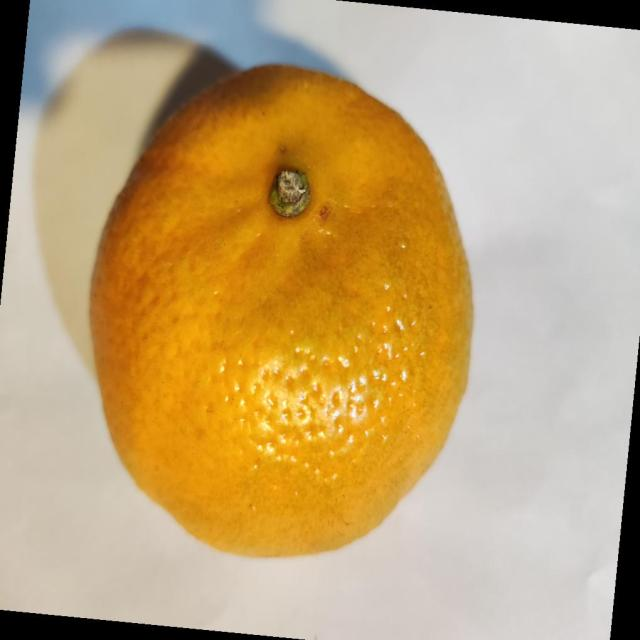fresh orange: (87, 61, 475, 558)
